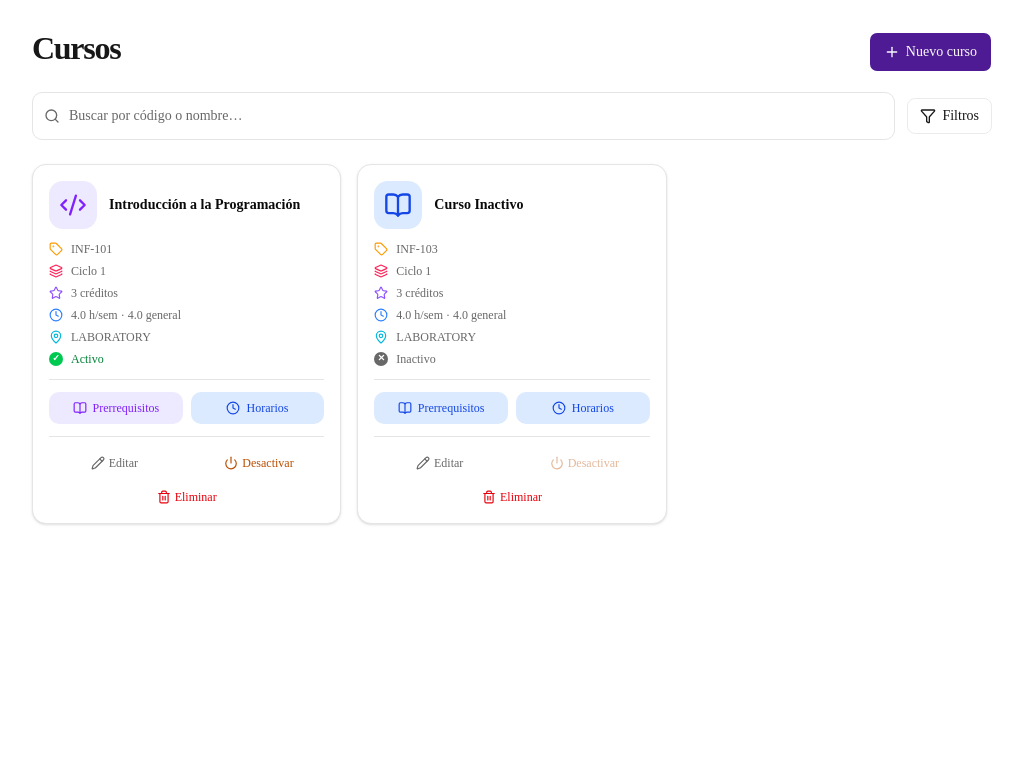
it: CoursesPage (admin) › muestra el filtro de aula y estado, y aplica filtro de estado inactivo
Expected: the text "Introducción a la Programación" is shown, [109,195,300,215]
Expected: the text "Curso Inactivo" is shown, [434,195,523,215]
Click the button "Filtros" at (950,116), box [907,98,992,134]
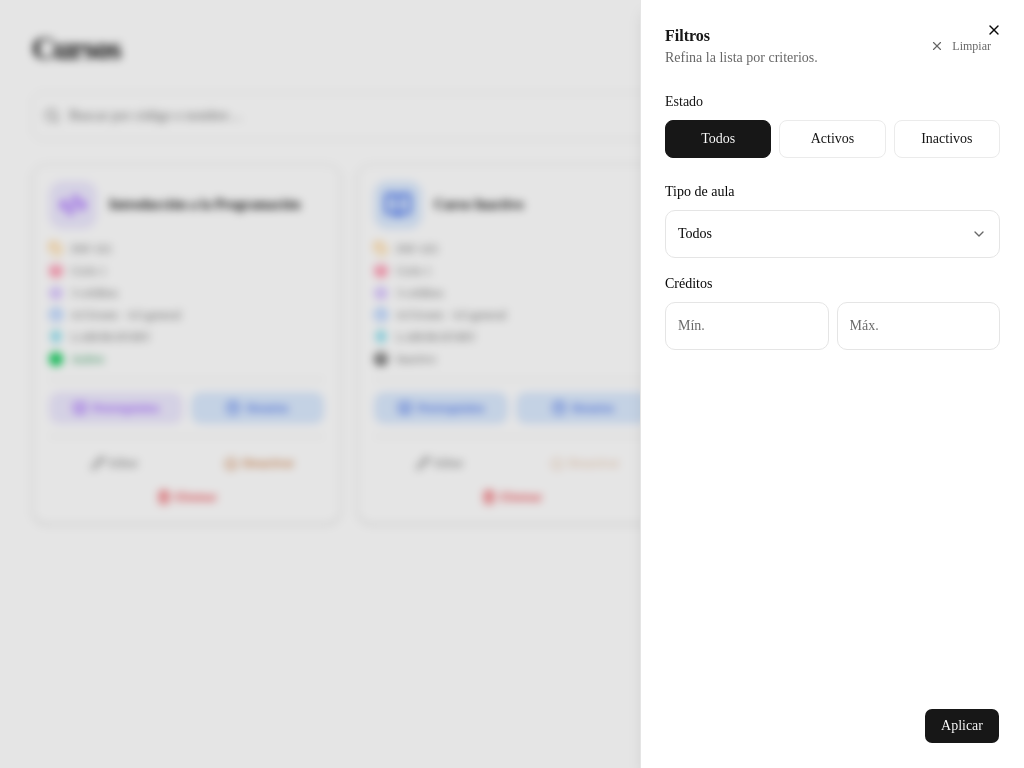
Click the button "Inactivos" at (947,139), box [894,120,1000,158]
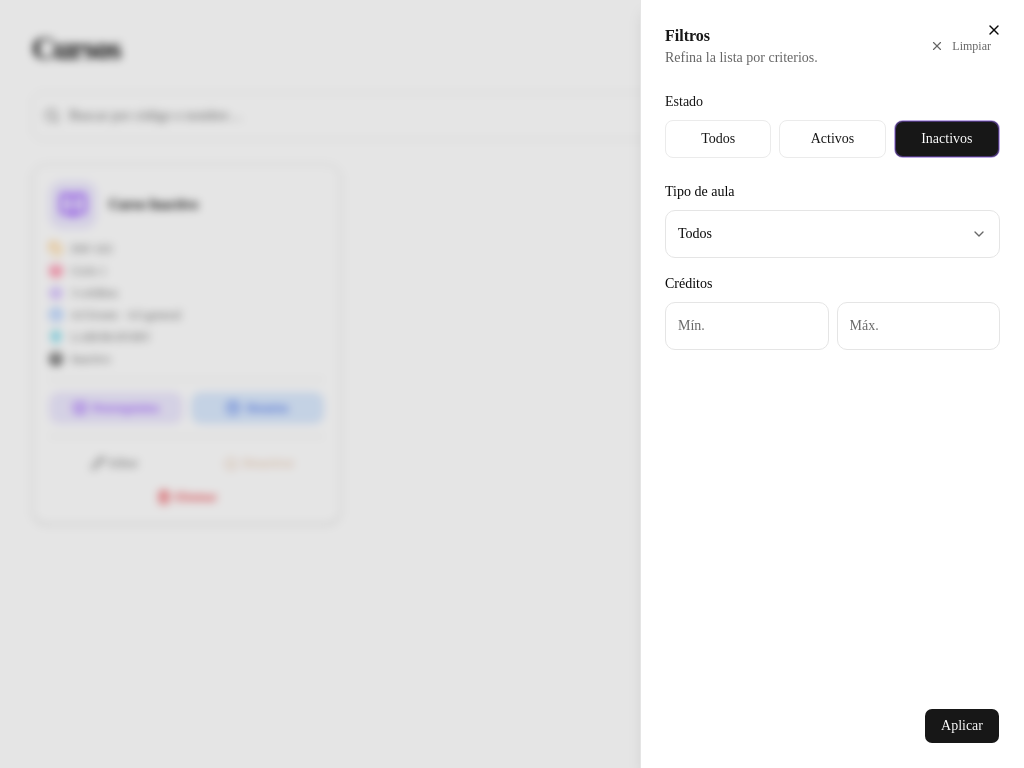
Expected: the text "Curso Inactivo" is shown, [109,195,198,215]
Now the text "Introducción a la Programación" is gone
